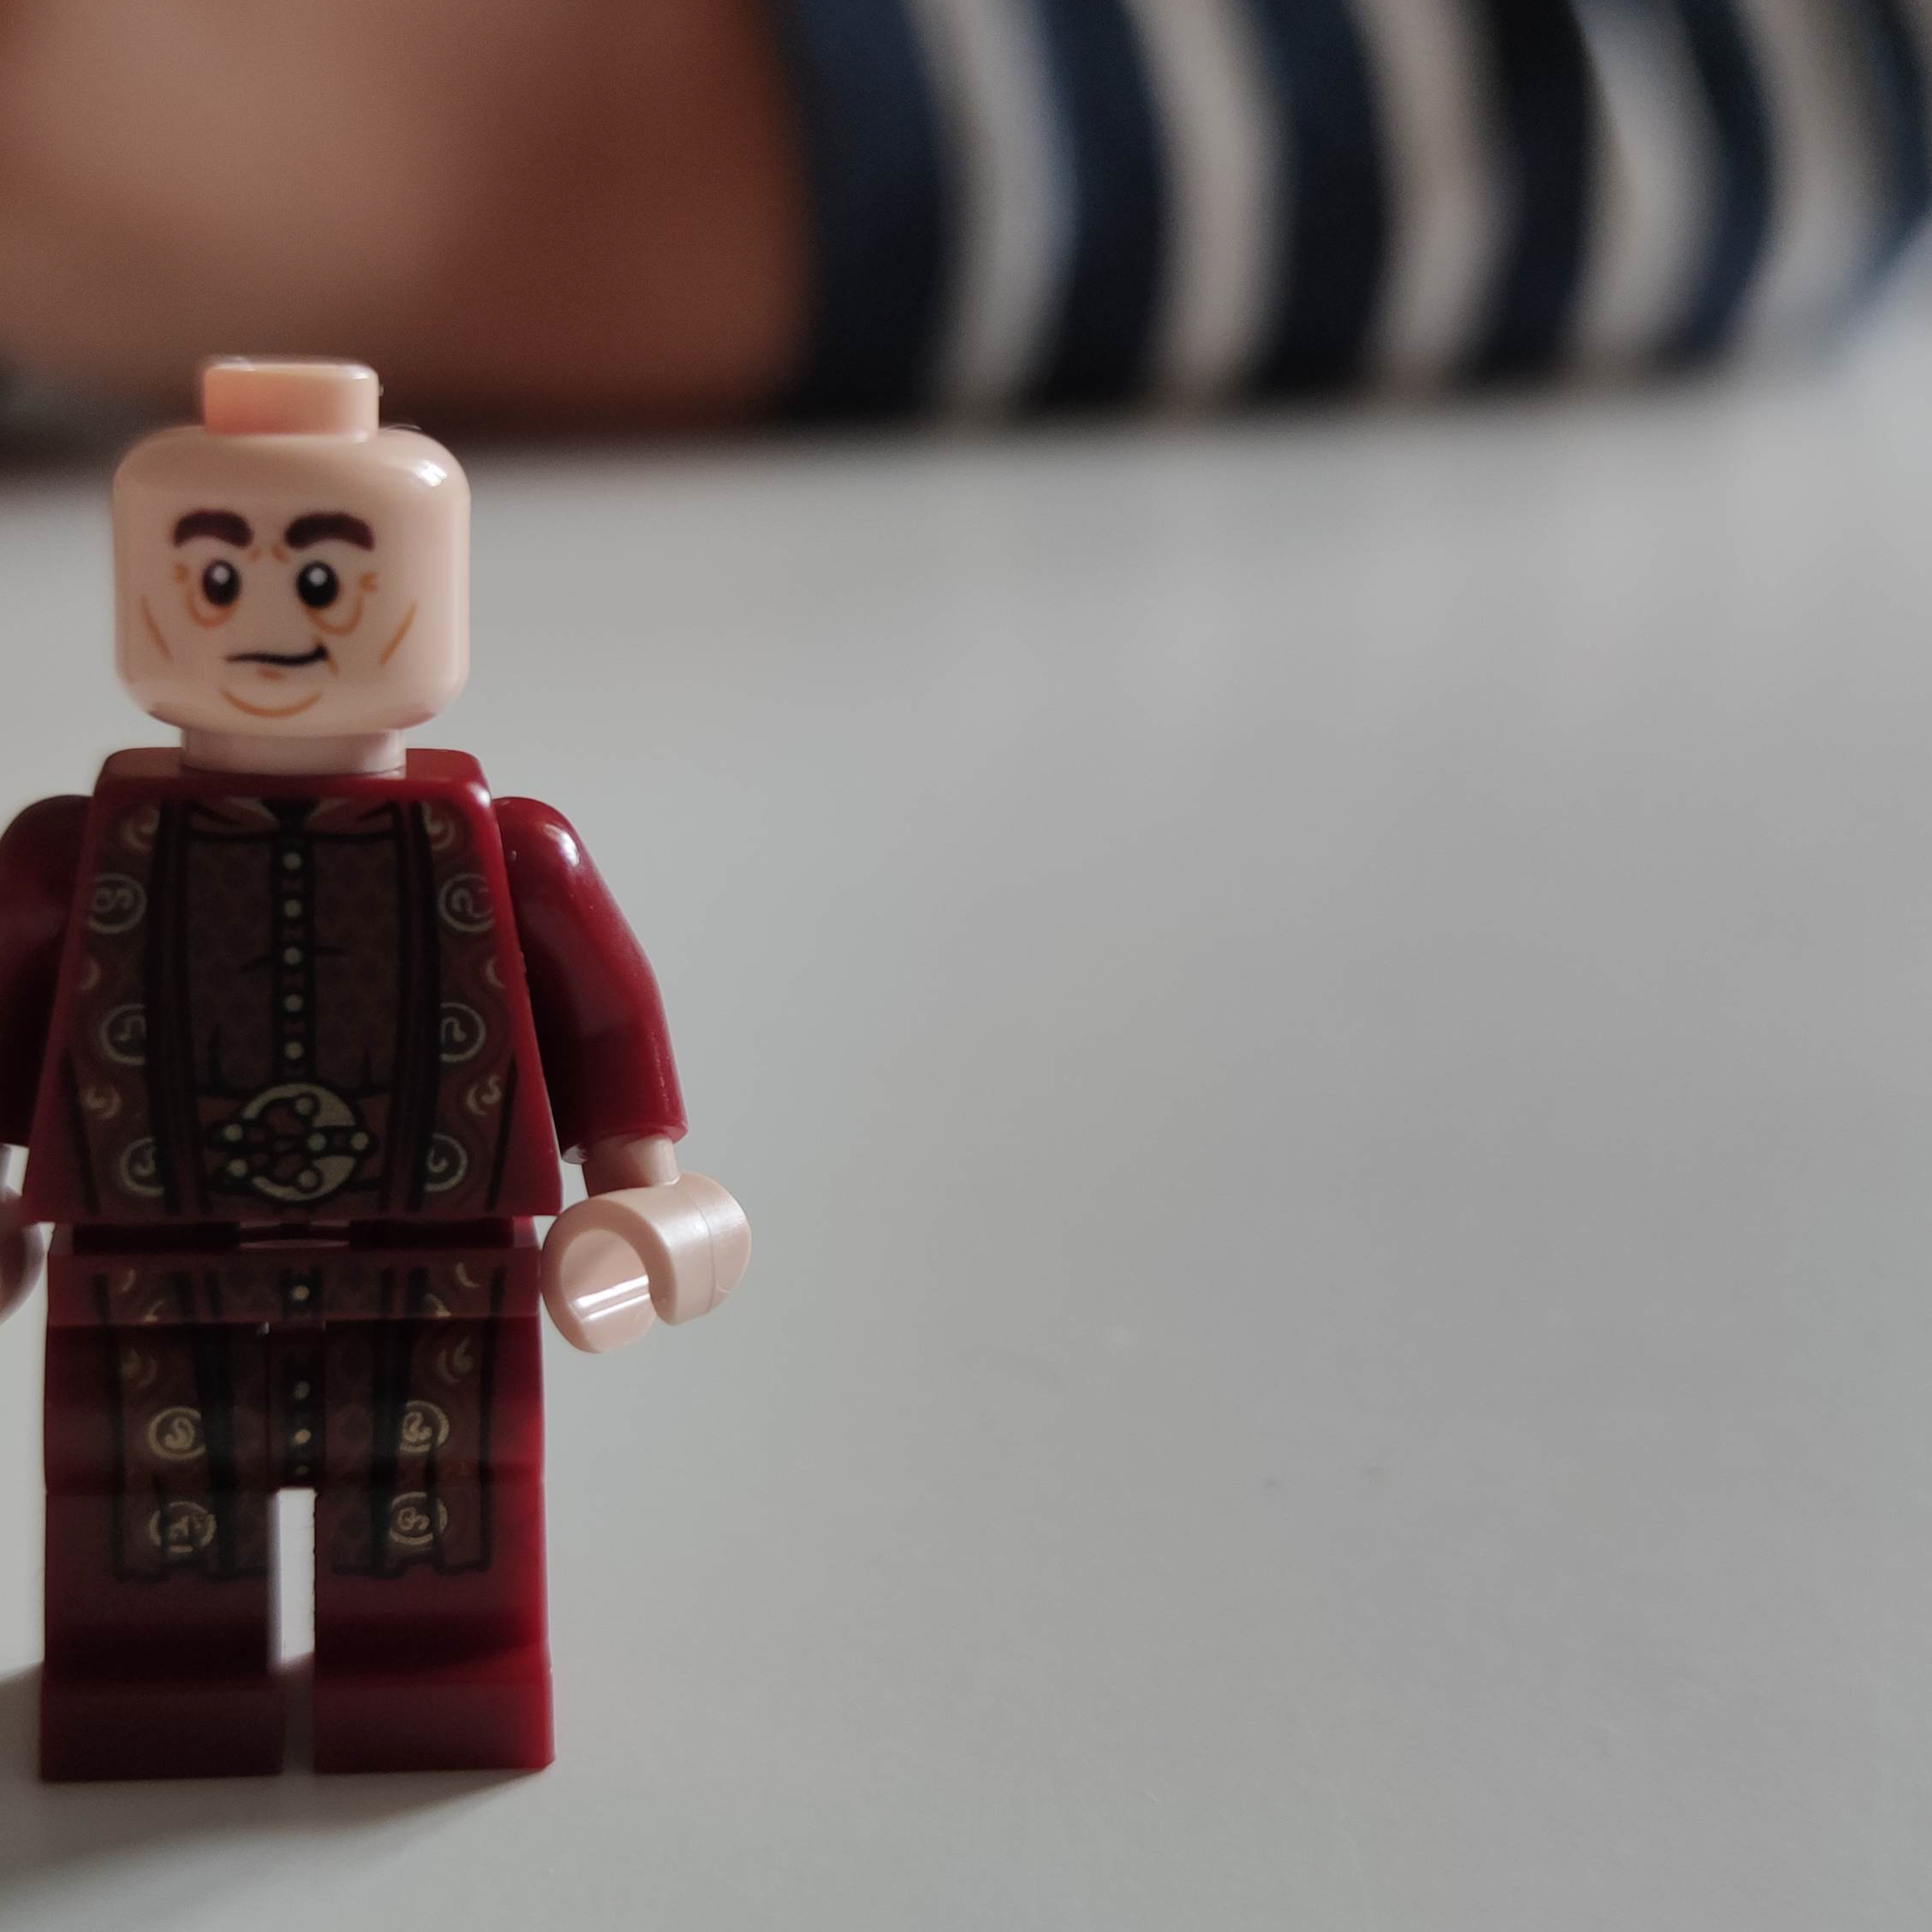lego: (0, 356, 754, 1790)
